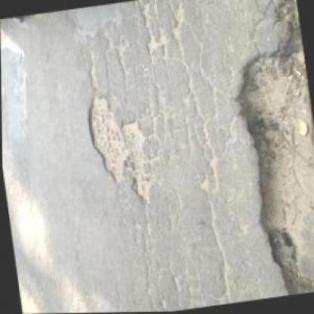Hueco: (215, 0, 313, 301), (83, 89, 153, 212)
